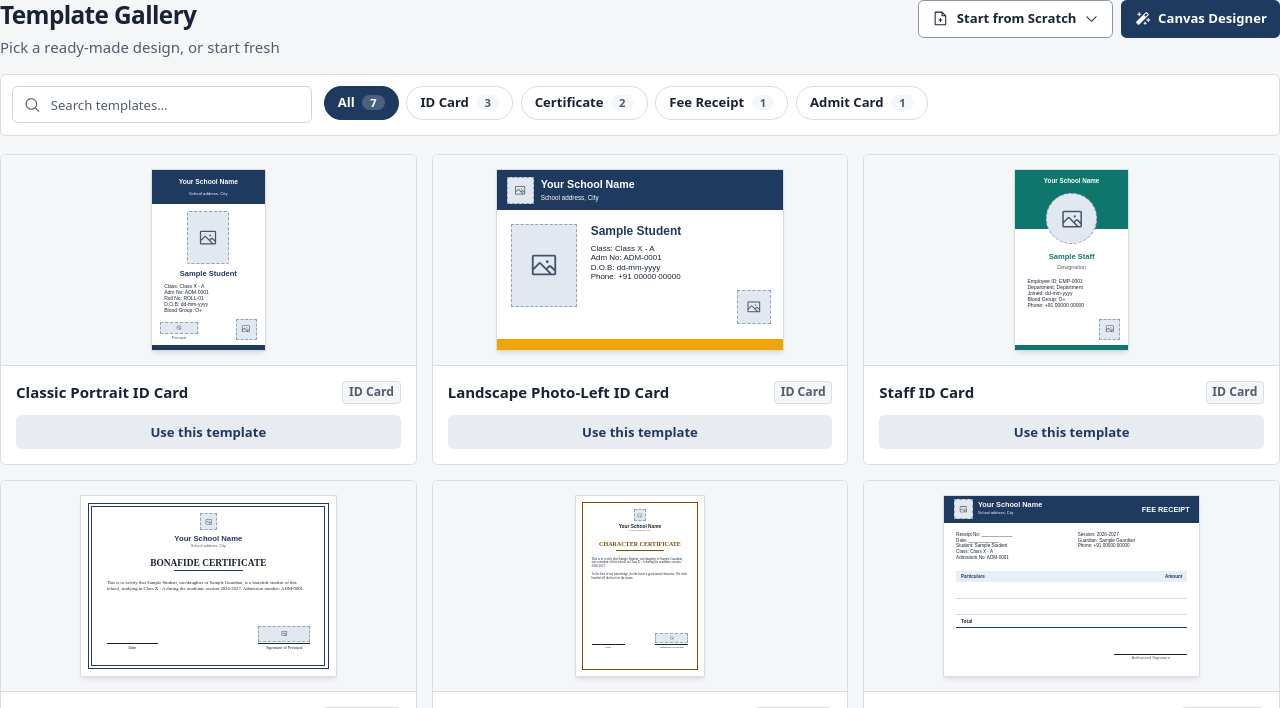
Test case: TemplateGalleryPage › filters by category
Click the button "Certificate 2". click: (584, 103)
box: [520, 86, 648, 120]
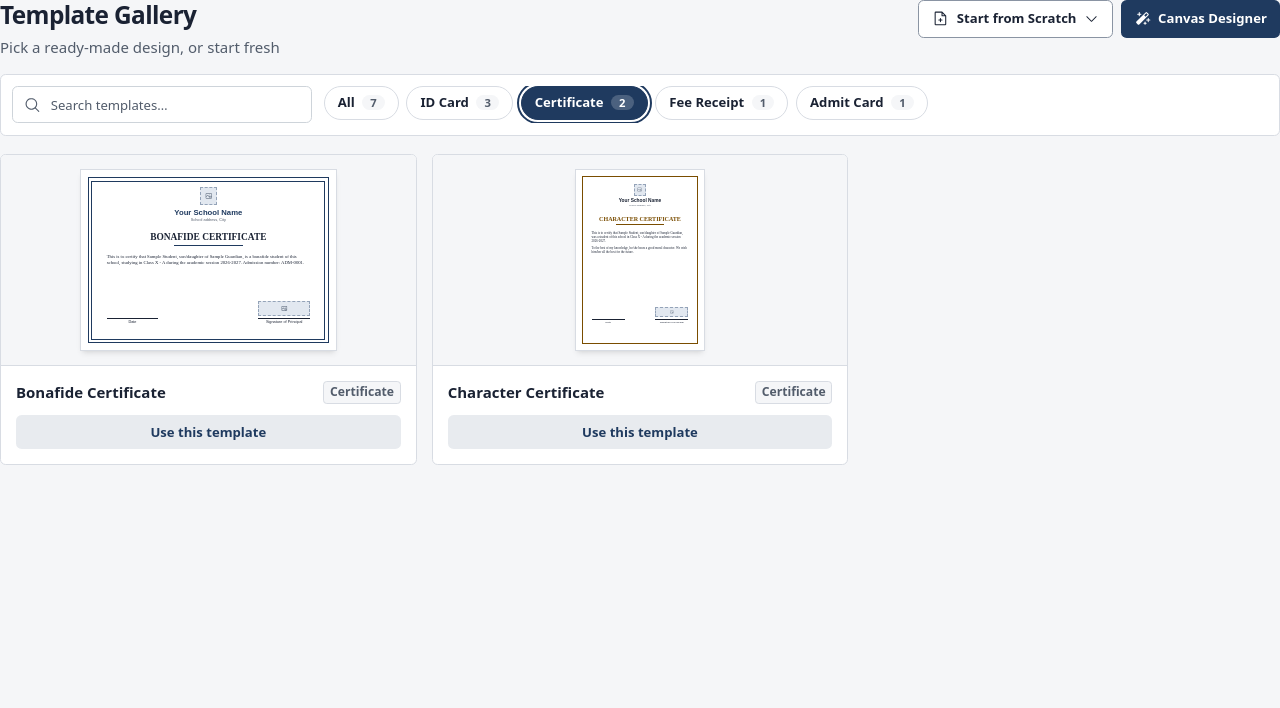
Expected: the heading "Bonafide Certificate" is shown, [16, 381, 166, 404]
Result: the heading "Classic Portrait ID Card" is gone
